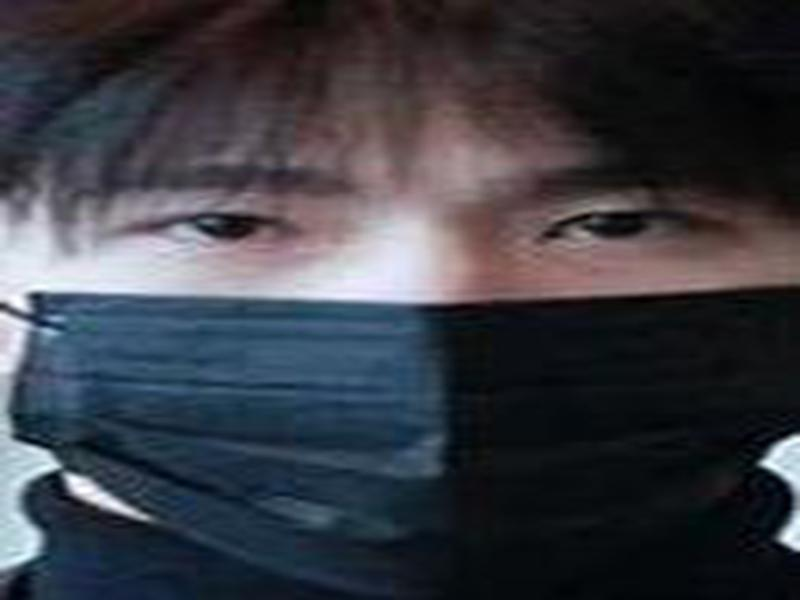with_mask: (1, 14, 799, 592)
